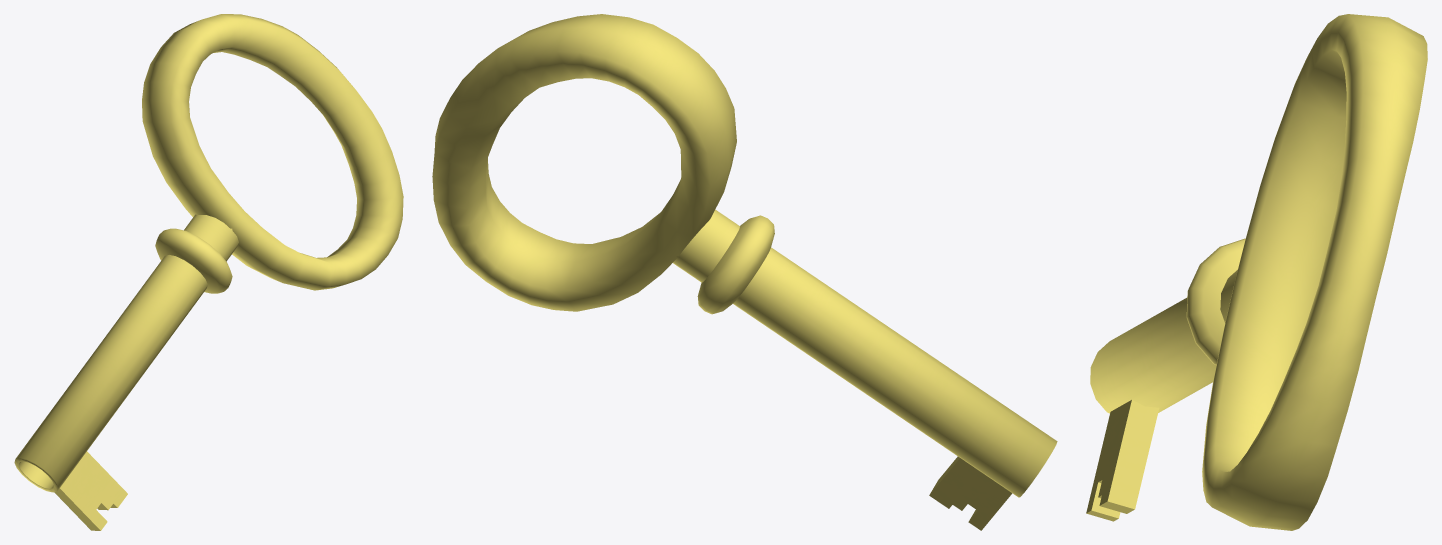
File: Key9.obj
The picture shows the model from 3 angles, left to right: view 1: azimuth 30°, elevation 25°; view 2: azimuth 150°, elevation 25°; view 3: azimuth 270°, elevation 25°; orthographic projection. The views are drawn at different scales.
Parts seen in each view (by area): view 1: Key9; view 2: Key9; view 3: Key9.
Boxes of the visible parts, <box> form: Key9: <box>14,14,403,530</box>; Key9: <box>432,14,1057,530</box>; Key9: <box>1086,14,1427,530</box>.
Bounding box in the file's own units: 2.14 × 1.94 × 0.9157.
